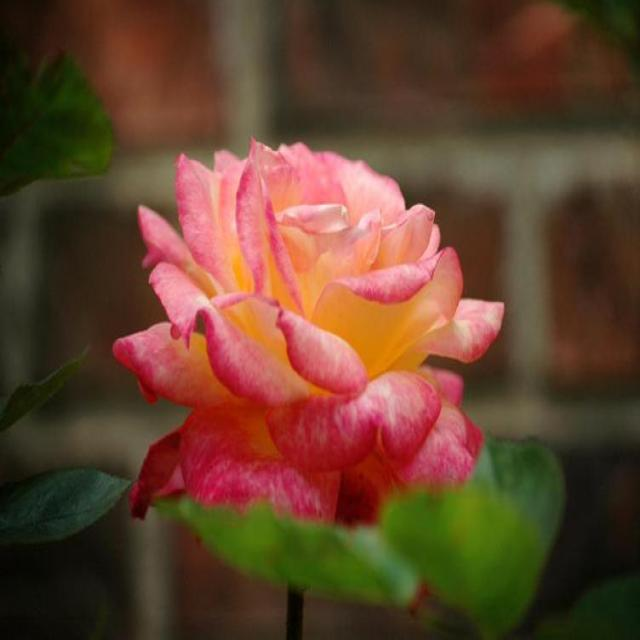rose: (119, 152, 470, 564)
